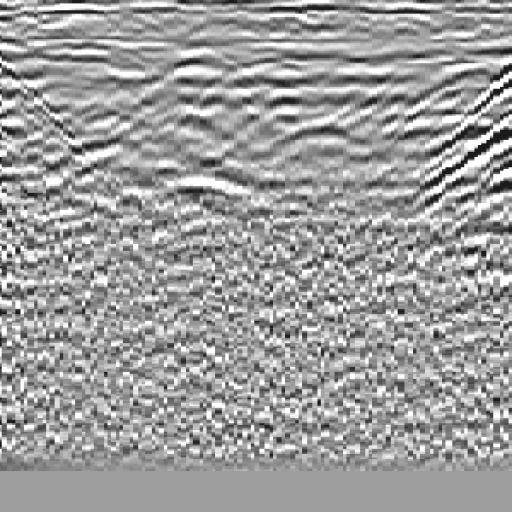metalic: (124, 42, 316, 240)
nonmetalic: (390, 49, 512, 264)
